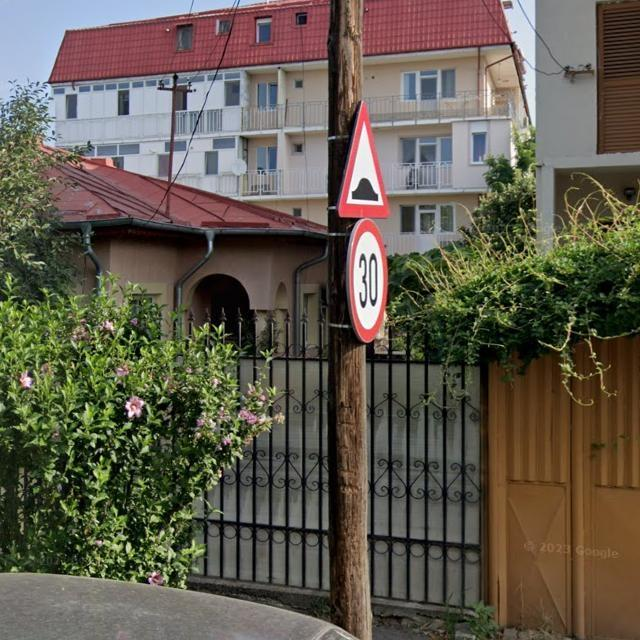forb_speed_over_30: (351, 215, 389, 343)
